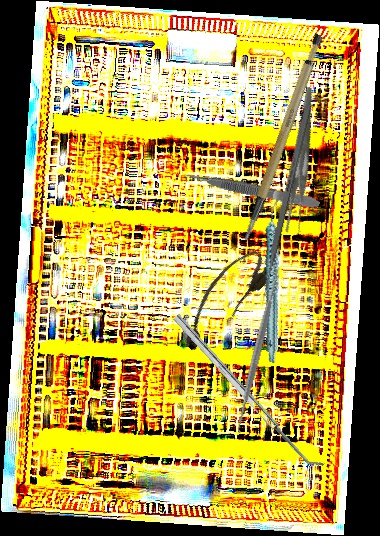Cannula: (168, 243, 278, 357)
Dressing Forceps: (248, 86, 357, 238)
Handpiece: (233, 197, 315, 364)
Pusher: (258, 104, 312, 307)
Scalpel Handle: (211, 31, 350, 242)
Spatula Surgical: (173, 308, 325, 475), (227, 264, 288, 435)
Tissue Forceps: (185, 167, 321, 212)
